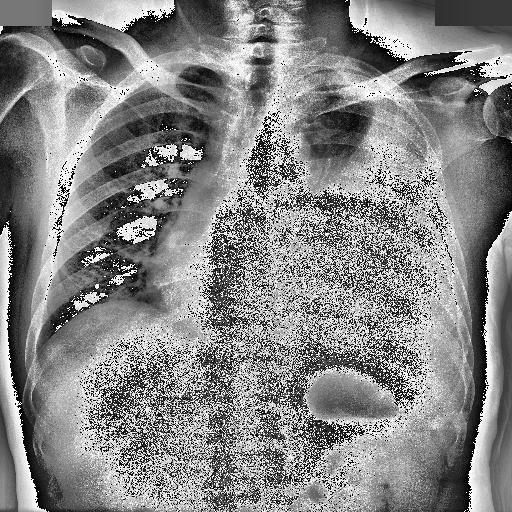0- Aortic enlargement: (242, 127, 324, 195), (247, 130, 312, 180)
10- Pleural effusion: (272, 60, 472, 374), (288, 62, 469, 362), (264, 80, 452, 346)
7- Lung Opacity: (306, 70, 374, 194), (300, 88, 374, 194)
